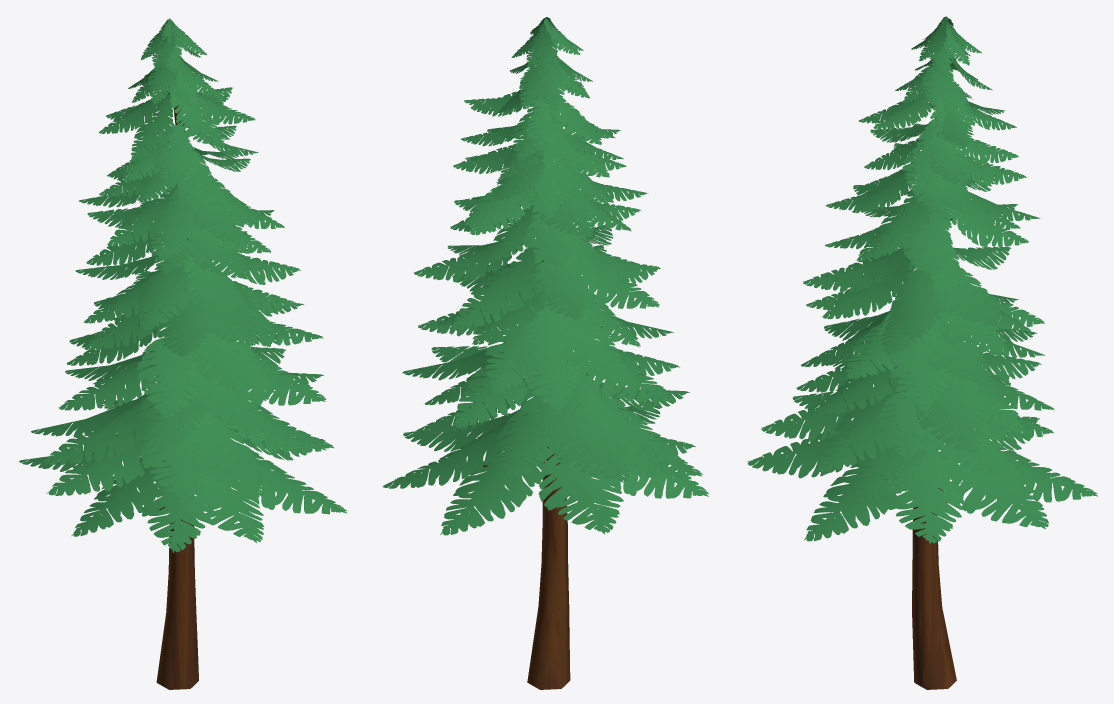
Rendered from st-pine-2.glb.
The picture shows the model from 3 angles, left to right: view 1: azimuth 30°, elevation 25°; view 2: azimuth 150°, elevation 25°; view 3: azimuth 270°, elevation 25°; orthographic projection.
Visible parts, largest first — view 1: STPine2; view 2: STPine2; view 3: STPine2.
Part boxes in pixels (x1=…): STPine2: x1=19, y1=18, x2=346, y2=689; STPine2: x1=383, y1=17, x2=708, y2=689; STPine2: x1=747, y1=16, x2=1097, y2=689.
Bounding box in the file's own units: 5.82 × 12.72 × 6.15.
2 materials, 2 textured.
